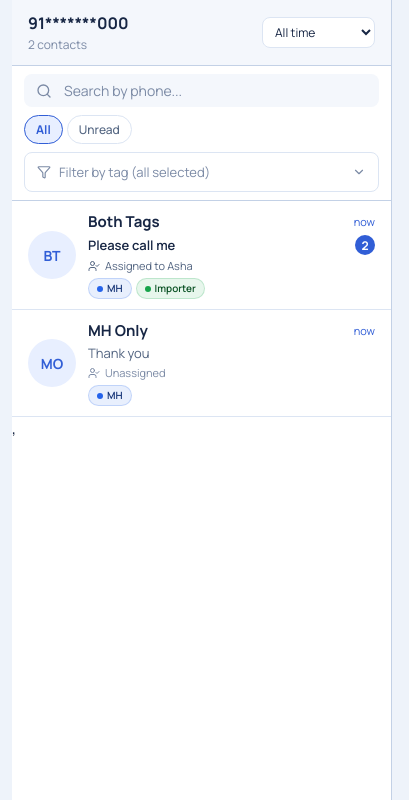
Scenario: ContactList consultant assignment › shows the assigned consultant on each lead and matches multiple tags with AND semantics
expect the text "Assigned to Asha" is shown: met, box x1=105 y1=258 x2=192 y2=273
expect the text "Unassigned" is shown: met, box x1=105 y1=365 x2=166 y2=380
What coordinates should you click on to do the following:
click the button "Filter by tag (all selected)"
I would click on:
 (202, 172)
Its box is x1=24 y1=152 x2=379 y2=192.
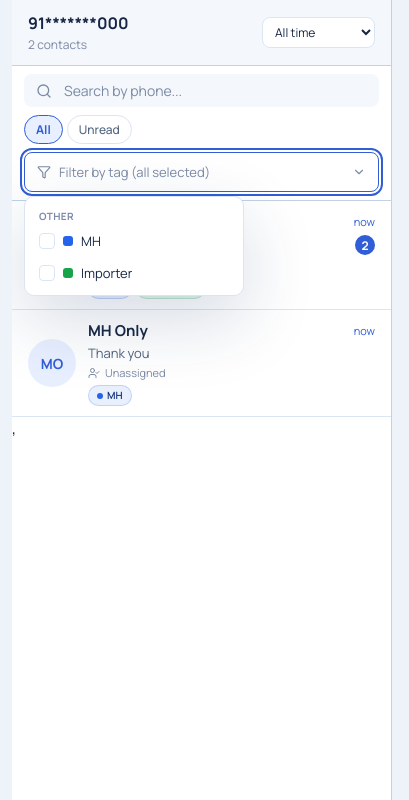
What coordinates should you click on to do the following:
click the text "MH"
I would click on:
 (91, 241)
Its box is x1=81 y1=232 x2=101 y2=250.
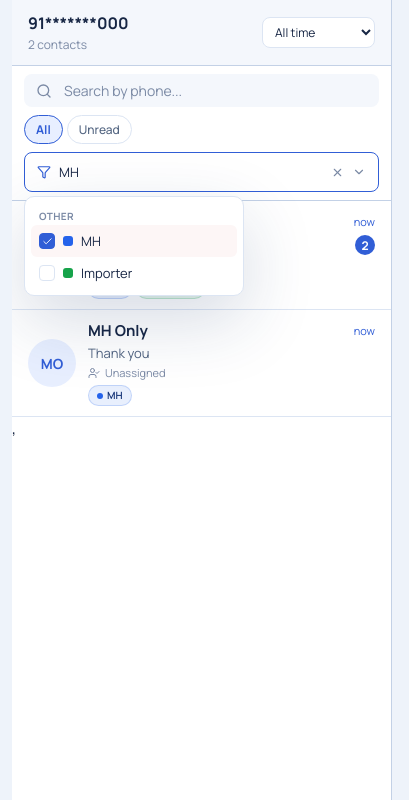
What coordinates should you click on to do the following:
click the text "Importer"
I would click on:
 (107, 273)
Its box is x1=81 y1=264 x2=132 y2=282.
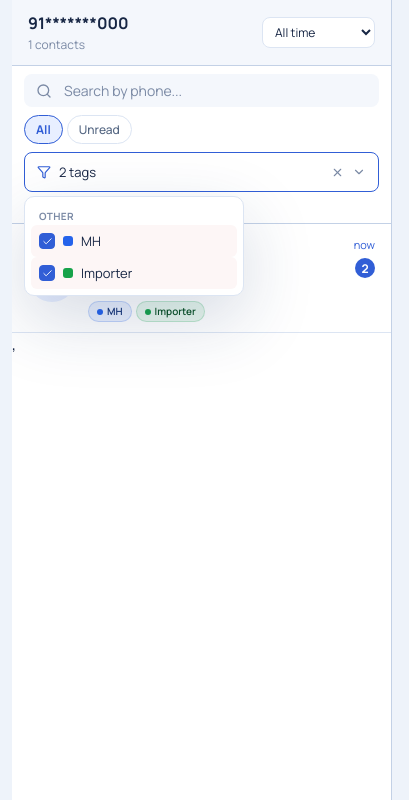
expect the text "Both Tags" is shown: met, box x1=88 y1=234 x2=160 y2=255
expect the button "MH Only" is gone: met
